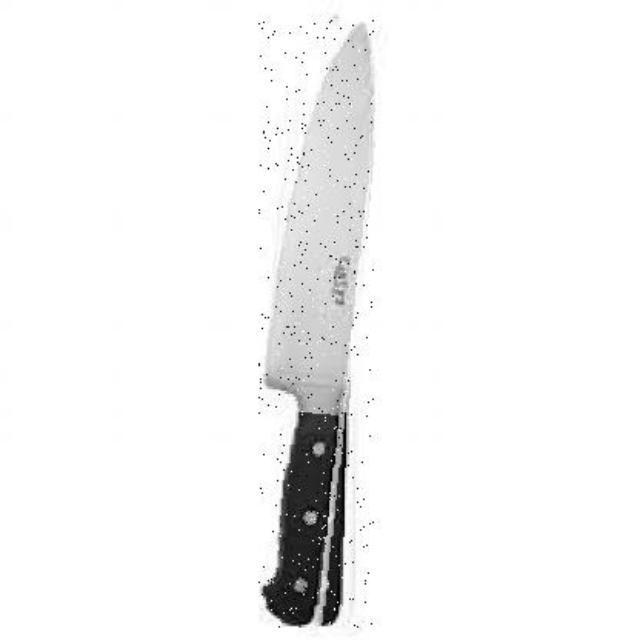Knife: (258, 17, 374, 627)
